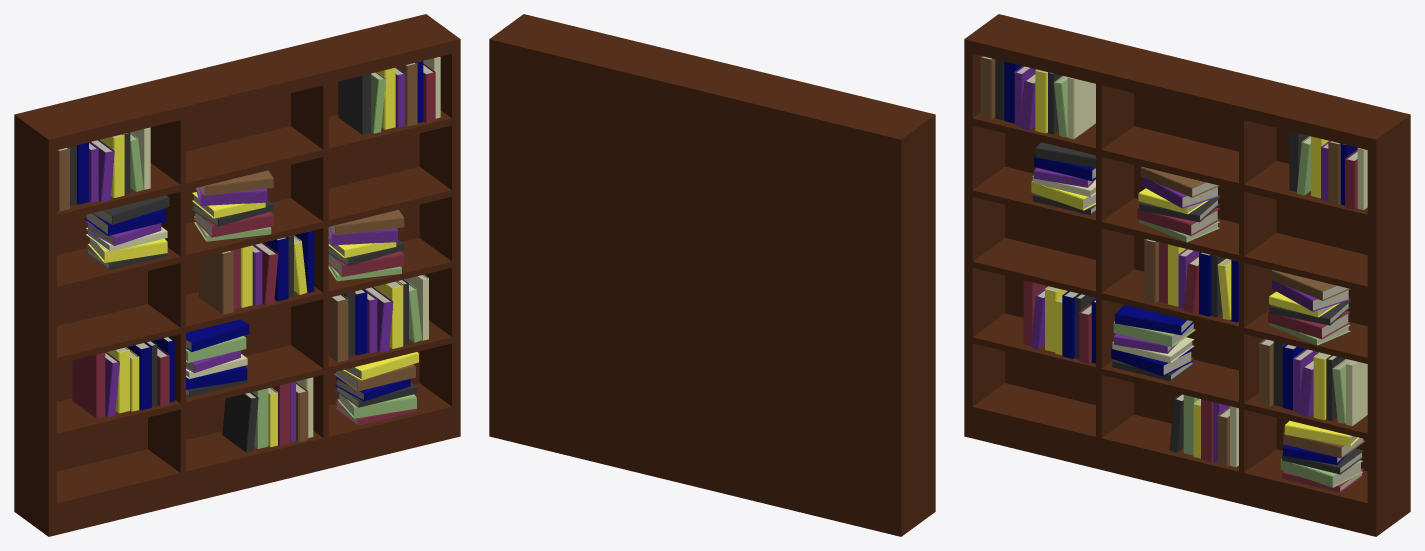
Rendered from book shelf.fbx.
3 views of the same model, side by side, from view 1: azimuth 30°, elevation 25°; view 2: azimuth 150°, elevation 25°; view 3: azimuth 330°, elevation 25° (orthographic).
Parts seen in each view (by area): view 1: book shelf, book2.027, book2.012, book2.017, book2.005, book2.035, book2.061, book2.066, book2.049, book2.072, book2.069, book2.045 (+53 smaller); view 2: book shelf; view 3: book shelf, book2.040, book2.061, book2.032, book2.066, book2.072, book2.058, book2.052, book2.063, book2.069, book2.035, book2.043 (+56 smaller).
Boxes of the visible parts, bbox=[...] form: book shelf: bbox=[14, 14, 460, 536]; book2.027: bbox=[199, 250, 233, 314]; book2.012: bbox=[72, 352, 105, 418]; book2.017: bbox=[222, 392, 258, 452]; book2.005: bbox=[338, 73, 370, 134]; book2.035: bbox=[328, 294, 348, 362]; book2.061: bbox=[186, 319, 249, 351]; book2.066: bbox=[329, 210, 404, 235]; book2.049: bbox=[91, 195, 169, 224]; book2.072: bbox=[199, 170, 273, 195]; book2.069: bbox=[193, 211, 273, 237]; book2.045: bbox=[87, 238, 167, 262]; book shelf: bbox=[489, 14, 935, 536]; book shelf: bbox=[964, 14, 1410, 536]; book2.040: bbox=[1067, 77, 1095, 139]; book2.061: bbox=[1115, 305, 1194, 335]; book2.032: bbox=[1346, 360, 1367, 425]; book2.066: bbox=[1271, 270, 1350, 300]; book2.072: bbox=[1140, 167, 1219, 197]; book2.058: bbox=[1111, 347, 1193, 376]; book2.052: bbox=[1280, 458, 1362, 487]; book2.063: bbox=[1268, 310, 1350, 339]; book2.069: bbox=[1137, 207, 1219, 235]; book2.035: bbox=[1259, 339, 1273, 406]; book2.043: bbox=[980, 56, 995, 119].
Bounding box in the file's own units: 198 × 182 × 29.19.
